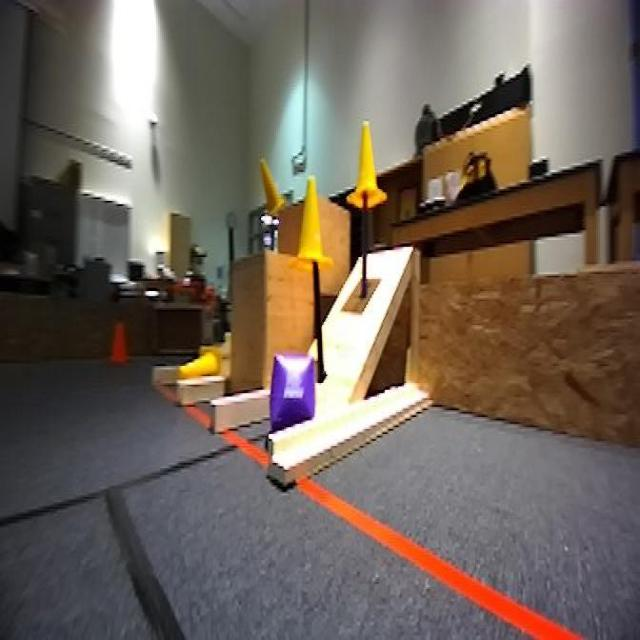frc_cone: (290, 172, 334, 274), (346, 119, 386, 211), (178, 349, 223, 388), (259, 155, 286, 218)
frc_cube: (270, 351, 315, 432)
